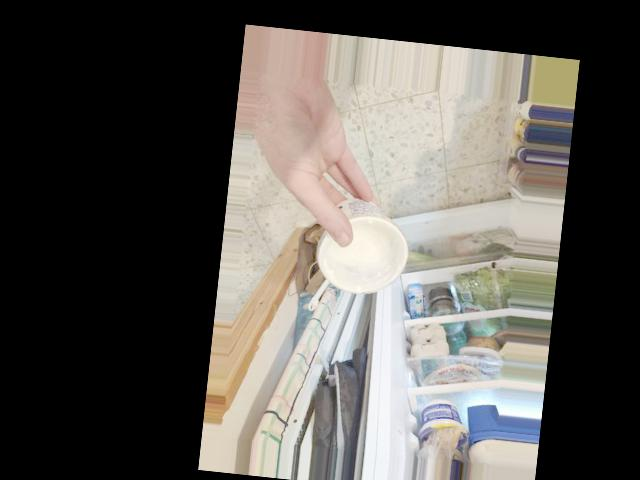cotage: (312, 196, 389, 289)
